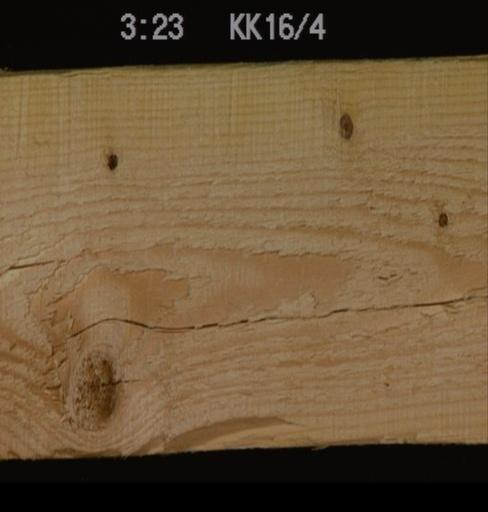small_knot: (433, 208, 448, 229)
sound_knot: (59, 343, 119, 435), (335, 110, 353, 140)
split: (46, 288, 486, 343), (0, 253, 63, 279)
wave: (124, 400, 424, 449)
